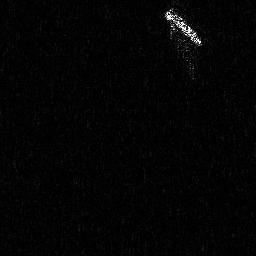ship: (162, 6, 205, 50)
